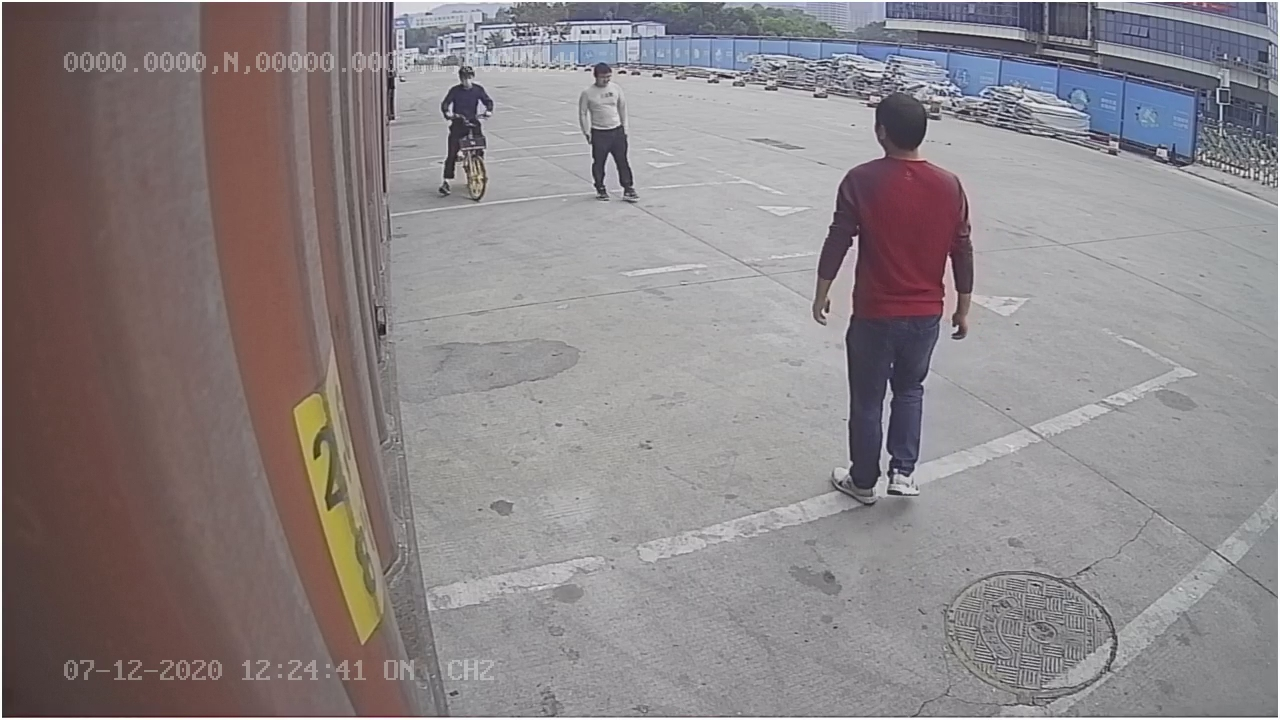person: (572, 60, 644, 206)
